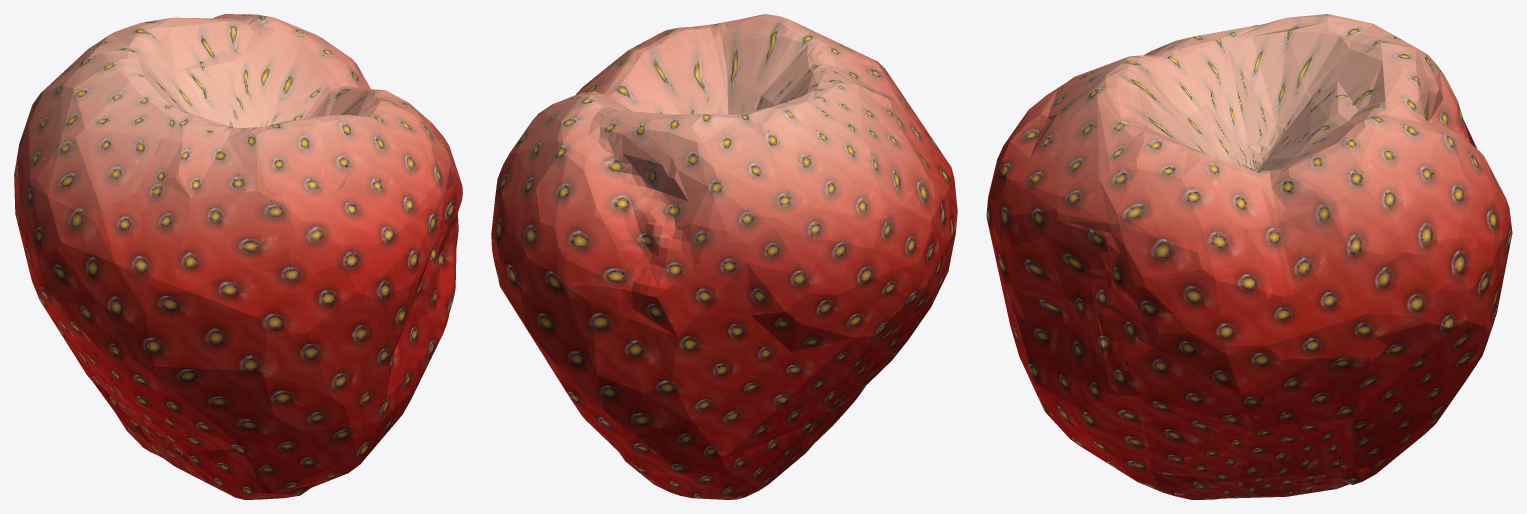
The picture shows the model from 3 angles, left to right: view 1: azimuth 30°, elevation 25°; view 2: azimuth 150°, elevation 25°; view 3: azimuth 270°, elevation 25°; orthographic projection. The views are drawn at different scales.
Visible parts, largest first — view 1: _003_Meshed; view 2: _003_Meshed; view 3: _003_Meshed.
Boxes of the visible parts, x1,y1,x2,y2 form: _003_Meshed: (14,14,462,499); _003_Meshed: (491,14,957,499); _003_Meshed: (986,14,1512,499).
Bounding box in the file's own units: 0.0971 × 0.1082 × 0.0983.
Materials: 1 (1 with a texture image).
